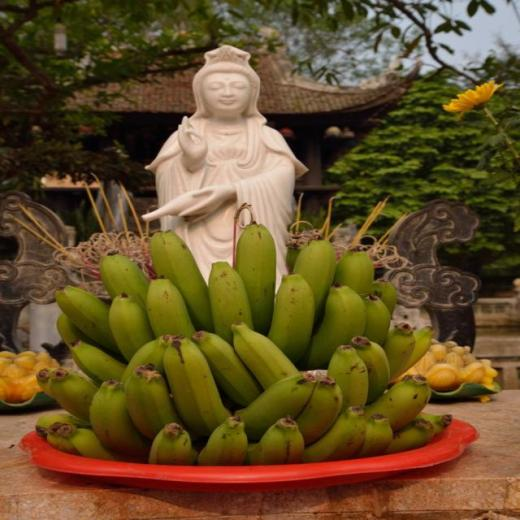Banana: (32, 225, 450, 461), (206, 261, 253, 345)
